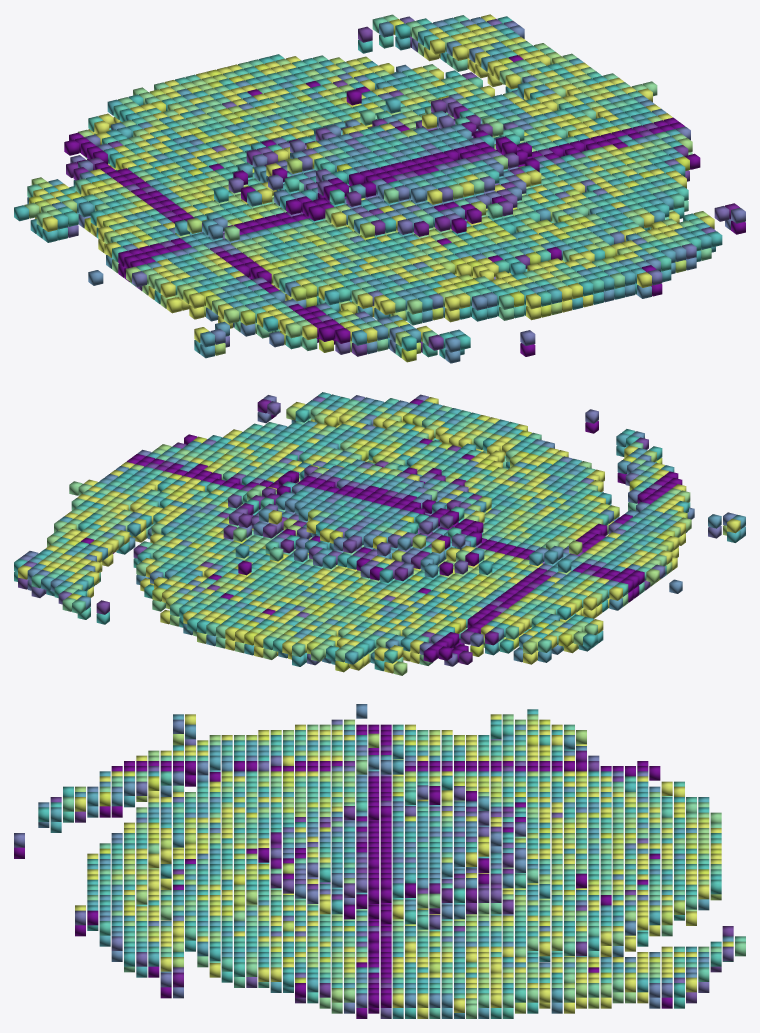
The model's file is system_mass_G.gltf.
3 views of the same model, one above another, from view 1: azimuth 30°, elevation 25°; view 2: azimuth 150°, elevation 25°; view 3: azimuth 270°, elevation 25° (orthographic). The views are drawn at different scales.
Parts seen in each view (by area): view 1: Renderer Node; view 2: Renderer Node; view 3: Renderer Node.
Part boxes in pixels (x1=…): Renderer Node: x1=14, y1=14, x2=745, y2=363; Renderer Node: x1=14, y1=392, x2=745, y2=675; Renderer Node: x1=14, y1=704, x2=745, y2=1018.
Bounding box in the file's own units: 75392 × 7552 × 76672.
